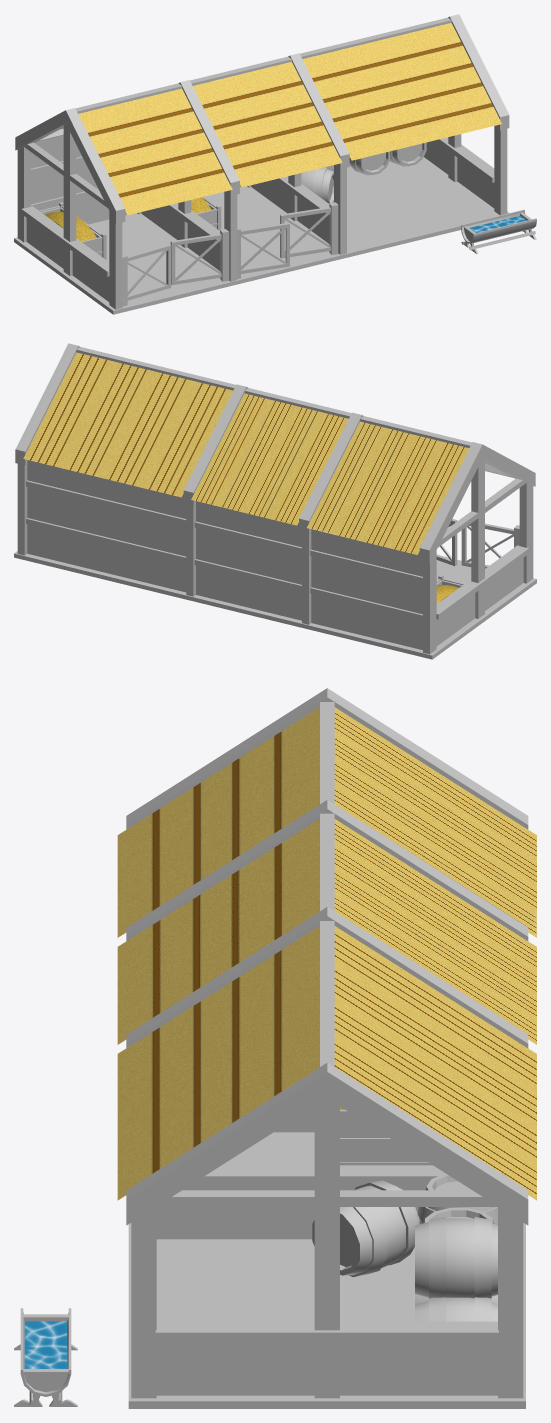
File: 마굿간 1.fbx
3 renders of one model, top to bottom at view 1: azimuth 30°, elevation 25°; view 2: azimuth 150°, elevation 25°; view 3: azimuth 270°, elevation 25°, orthographic. The views are drawn at different scales.
Visible parts, largest first — view 1: Base, Roof; view 2: Base, Roof; view 3: Base, Roof.
Boxes of the visible parts, x1,y1,x2,y2 form: Base: (14, 14, 536, 314); Roof: (45, 23, 526, 241); Base: (14, 343, 536, 659); Roof: (23, 352, 469, 603); Base: (14, 688, 528, 1408); Roof: (24, 707, 536, 1368).
Size of the model in its own units: 616 by 249 by 351.
